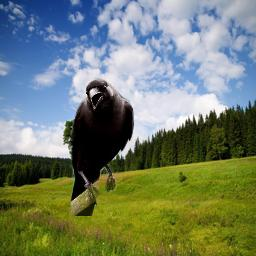Crow: (69, 78, 134, 216)
